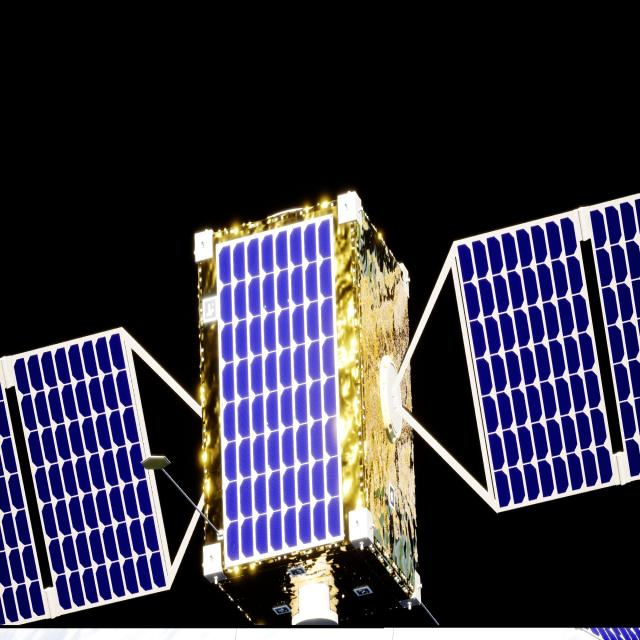medium_debris: (0, 192, 640, 629)
